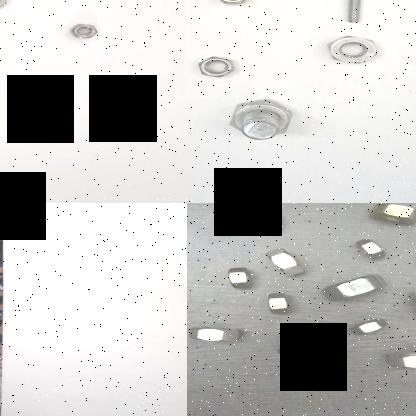Bolts: (218, 95, 296, 140), (334, 0, 372, 25)
NUTS: (316, 272, 392, 304), (322, 32, 385, 68), (258, 243, 310, 279), (189, 50, 238, 80), (359, 203, 416, 227), (187, 324, 246, 346), (245, 206, 285, 238), (258, 286, 298, 315), (347, 312, 393, 336), (344, 237, 390, 261), (272, 329, 308, 356), (387, 344, 416, 370), (64, 21, 102, 39), (211, 0, 253, 11), (404, 287, 416, 321)
